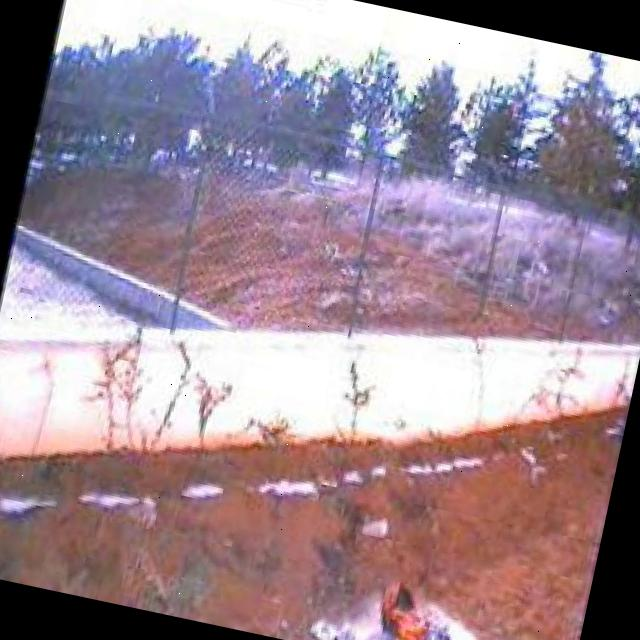fire: (371, 574, 453, 640)
